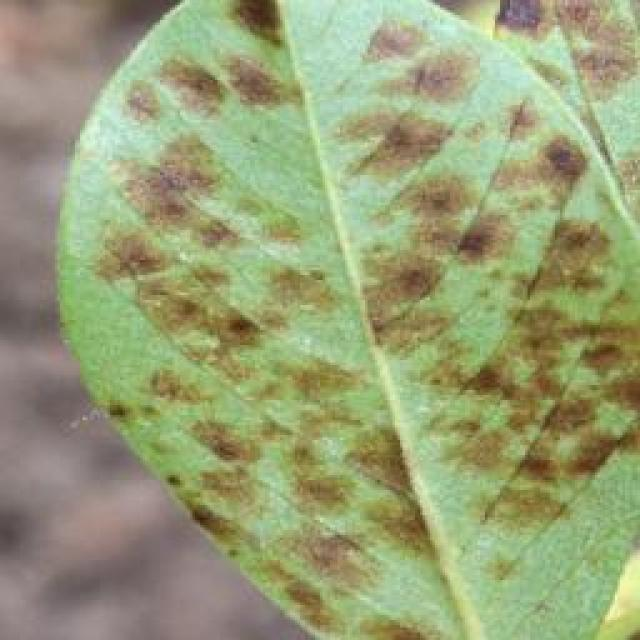Whitefly: (26, 0, 640, 617)
